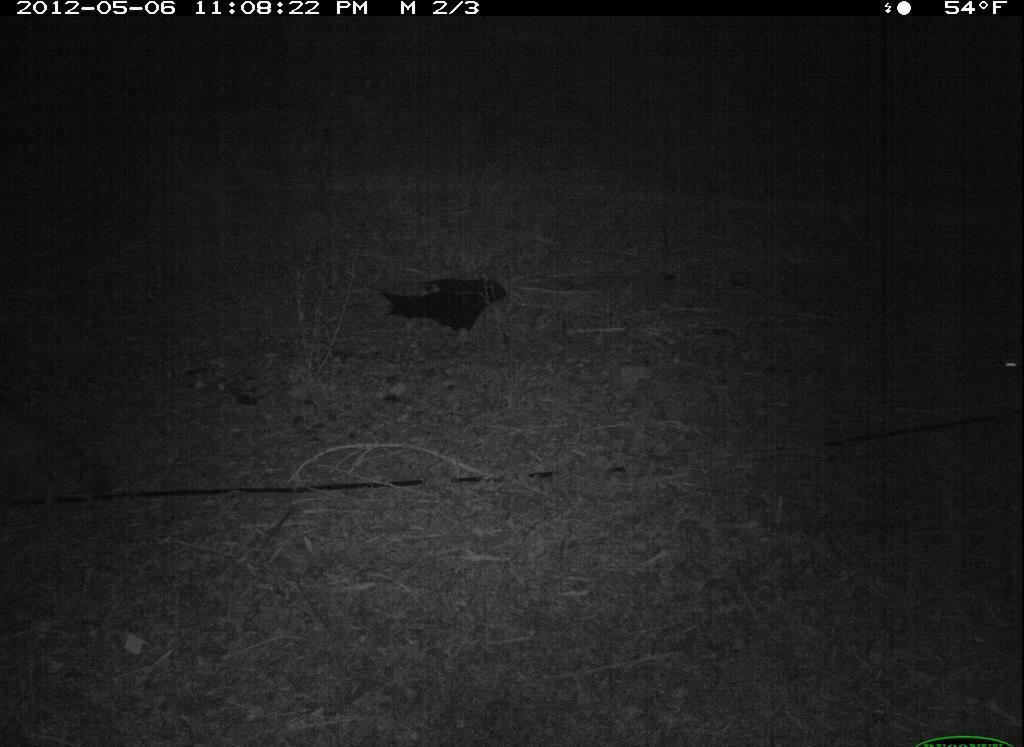raccoon: (15, 387, 118, 536)
